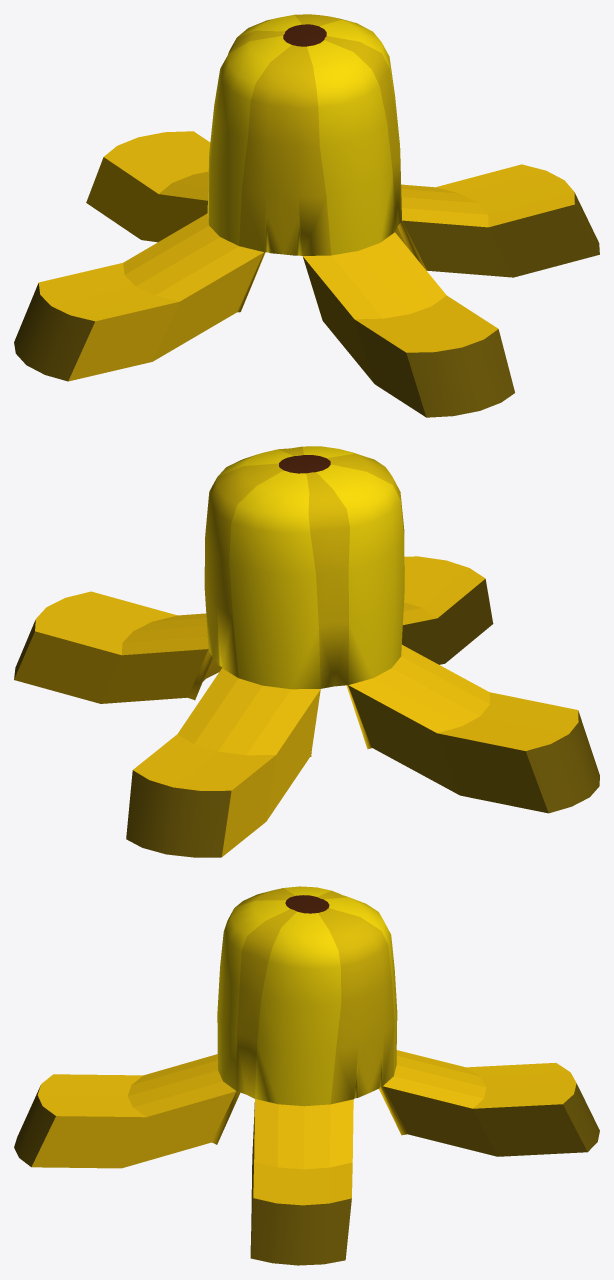
Rendered from BANANA.FBX.
3 views of the same model, one above another, from view 1: azimuth 30°, elevation 25°; view 2: azimuth 150°, elevation 25°; view 3: azimuth 270°, elevation 25° (orthographic). The views are drawn at different scales.
Parts seen in each view (by area): view 1: Cylinder001; view 2: Cylinder001; view 3: Cylinder001.
Boxes of the visible parts, box(x1,y1,x2,y2) form: Cylinder001: box(14, 14, 599, 417); Cylinder001: box(14, 446, 599, 857); Cylinder001: box(14, 886, 599, 1265).
Bounding box in the file's own units: 529 × 239 × 528.
